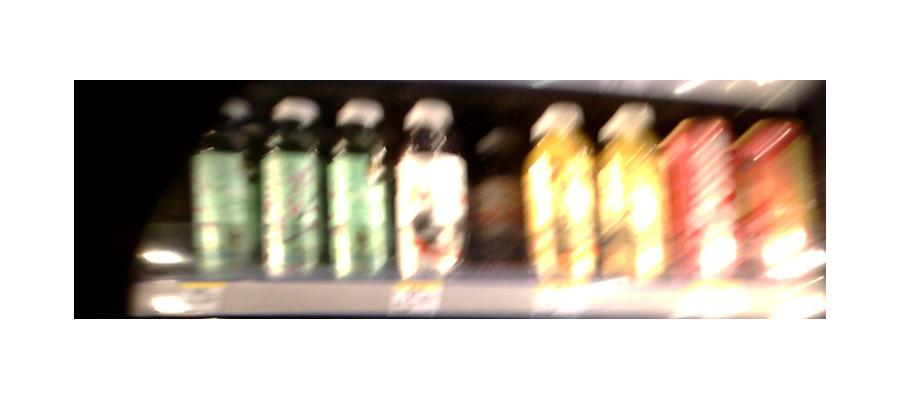bottle: (527, 102, 597, 295), (392, 108, 465, 293), (732, 121, 810, 284), (188, 103, 259, 281), (600, 106, 667, 293), (666, 115, 736, 289), (327, 109, 389, 284), (260, 116, 320, 277), (474, 128, 523, 263)
